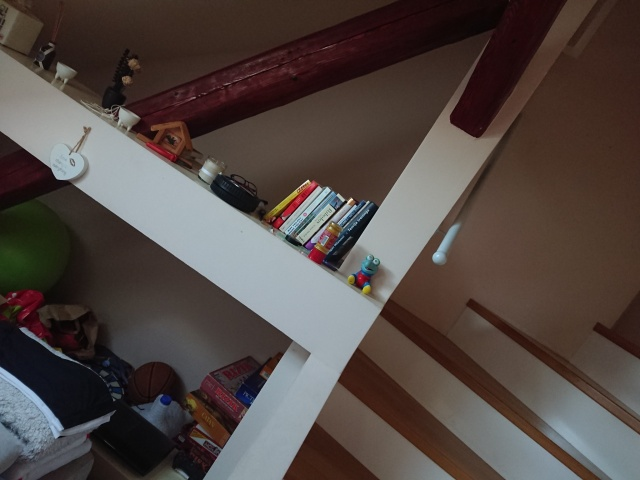Kotanyi Curry Spices Mix 70g: (307, 219, 344, 266)
